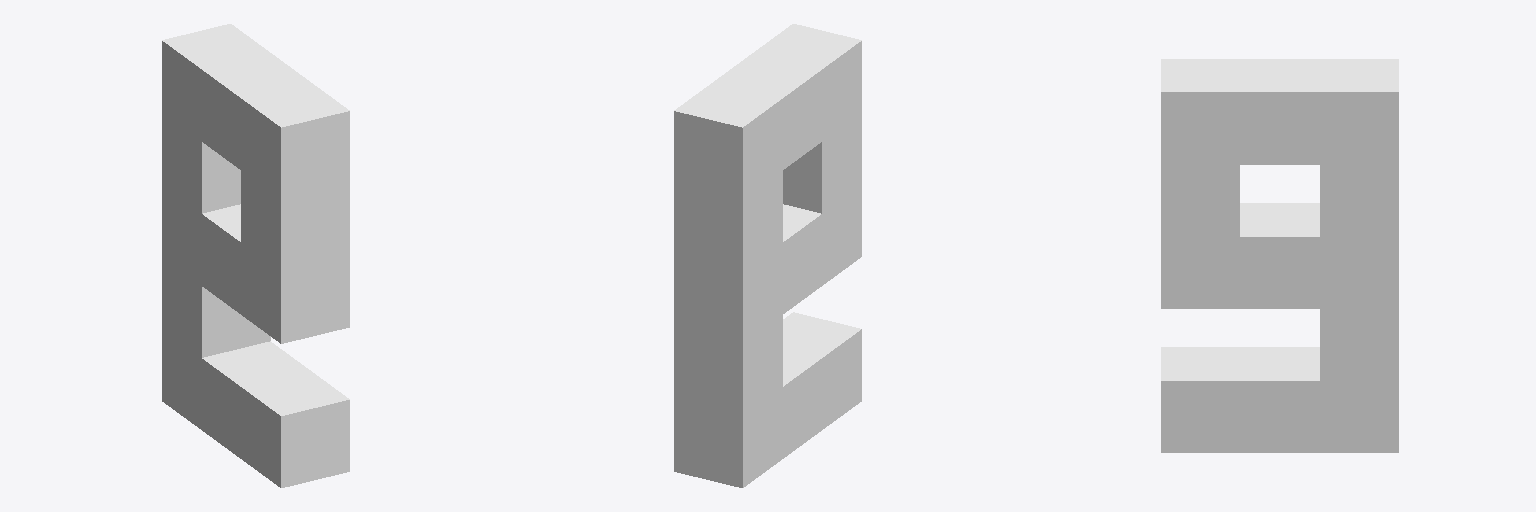
The model's file is nowruz-display-1.obj.
3 views of the same model, side by side, from view 1: azimuth 30°, elevation 25°; view 2: azimuth 150°, elevation 25°; view 3: azimuth 270°, elevation 25° (orthographic).
Visible parts, largest first — view 1: object 1; view 2: object 1; view 3: object 1.
Part boxes in pixels (x1,y1,x2,y2): object 1: (162,24,349,487); object 1: (674,24,861,487); object 1: (1161,59,1398,452).
Size of the model in its own units: 0.1 by 0.5 by 0.3.